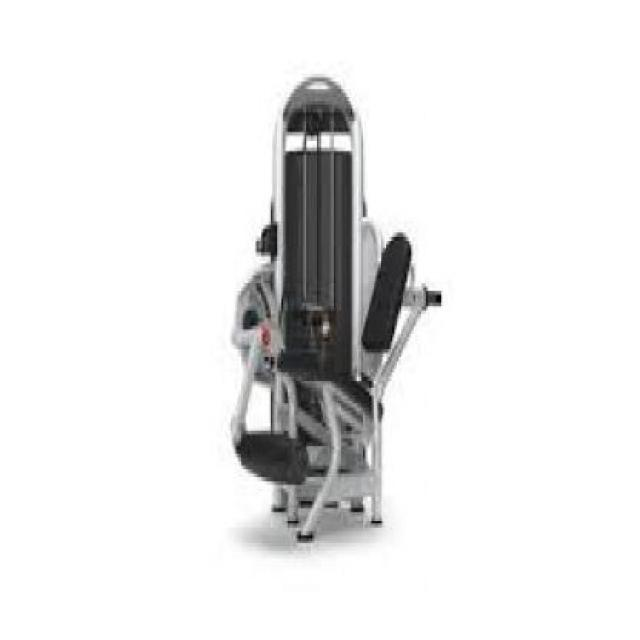leg extension: (220, 66, 451, 597)
